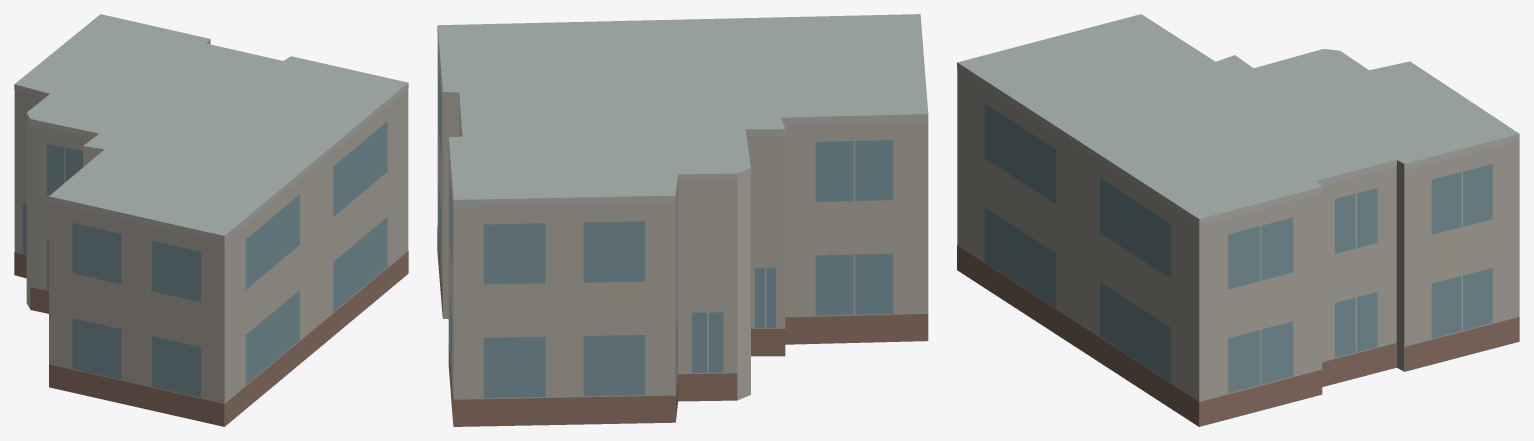
The model's file is survey-upis-33012521.glb.
3 renders of one model, left to right at view 1: azimuth 30°, elevation 25°; view 2: azimuth 150°, elevation 25°; view 3: azimuth 270°, elevation 25°, orthographic. The views are drawn at different scales.
Visible parts, largest first — view 1: survey-upis-33012521.tmp; view 2: survey-upis-33012521.tmp; view 3: survey-upis-33012521.tmp.
Boxes of the visible parts, <box> form: survey-upis-33012521.tmp: <box>14,14,408,426</box>; survey-upis-33012521.tmp: <box>437,14,928,426</box>; survey-upis-33012521.tmp: <box>957,14,1519,426</box>.
Size of the model in its own units: 16.52 by 7.8 by 19.14.
